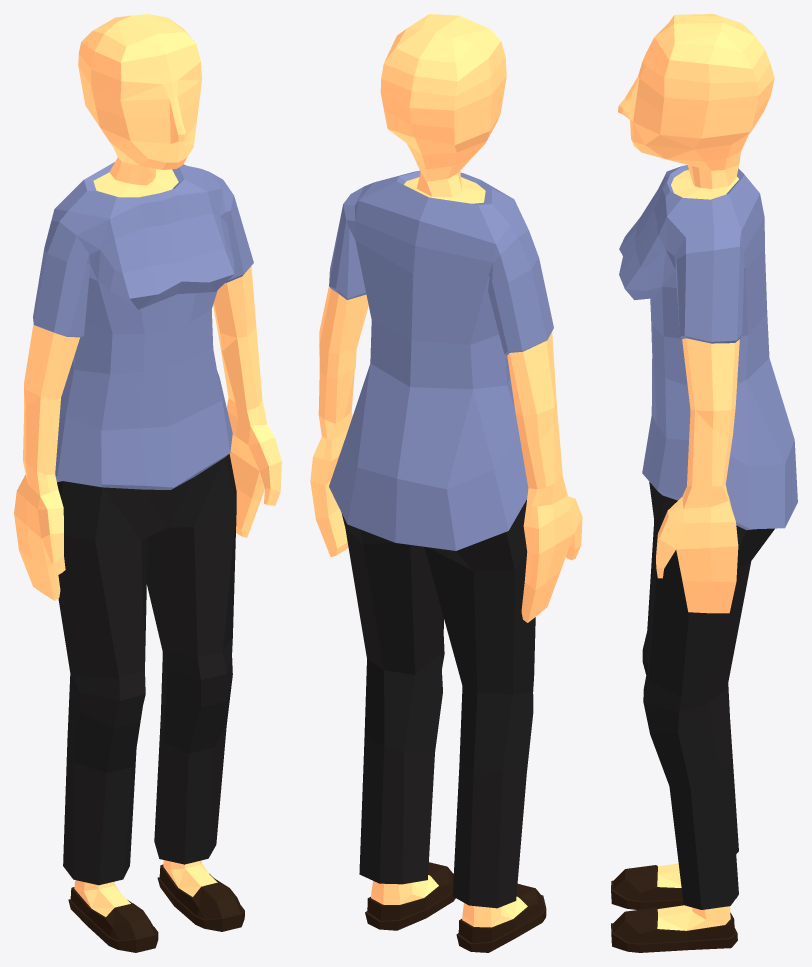
Rendered from female_standing.glb.
3 views of the same model, side by side, from view 1: azimuth 30°, elevation 25°; view 2: azimuth 150°, elevation 25°; view 3: azimuth 270°, elevation 25° (orthographic). The views are drawn at different scales.
Visible parts, largest first — view 1: Female_Standing; view 2: Female_Standing; view 3: Female_Standing.
Boxes of the visible parts, x1=… form: Female_Standing: x1=14, y1=14, x2=281, y2=952; Female_Standing: x1=310, y1=14, x2=582, y2=952; Female_Standing: x1=611, y1=14, x2=797, y2=952.
Size of the model in its own units: 0.5066 by 1.85 by 0.3495.
